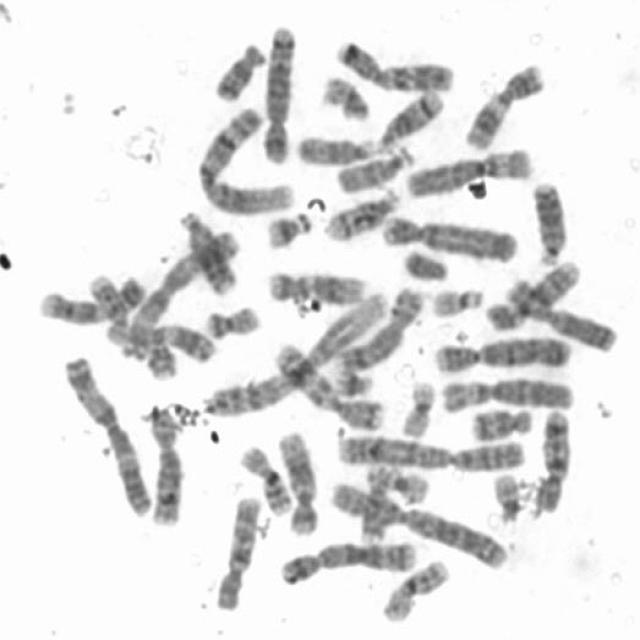A1: (202, 290, 391, 418), (191, 101, 298, 216)
A2: (323, 476, 513, 571), (332, 426, 528, 474)
A3: (120, 223, 242, 363), (59, 348, 155, 520)
B4: (376, 208, 521, 264), (428, 330, 574, 374)
B5: (275, 535, 420, 586), (258, 18, 299, 164)
C10: (209, 490, 262, 613), (529, 404, 574, 517)
C11: (460, 58, 548, 151), (120, 316, 218, 366)
C12: (274, 426, 322, 537), (261, 266, 368, 306)
C6: (400, 140, 537, 200), (436, 372, 576, 415)
C7: (270, 340, 386, 432), (332, 33, 458, 94)
C8: (333, 281, 427, 373), (143, 404, 187, 530)
C9: (481, 253, 582, 331), (34, 272, 150, 327)
D13: (172, 206, 238, 296), (526, 174, 569, 268)
D14: (318, 181, 404, 244), (373, 85, 447, 151)
D15: (332, 142, 416, 194), (291, 128, 378, 167)
E16: (376, 554, 452, 625), (238, 441, 296, 517)
E17: (84, 267, 131, 346), (355, 463, 396, 545)
E18: (206, 34, 268, 102), (465, 402, 536, 442)
F19: (364, 458, 434, 506), (395, 374, 438, 440)
F20: (318, 69, 375, 123), (200, 299, 263, 340)
G21: (261, 206, 313, 252), (328, 362, 377, 399)
G22: (427, 281, 486, 318), (488, 470, 523, 527)
X: (500, 269, 620, 354)
Y: (398, 245, 452, 283)
